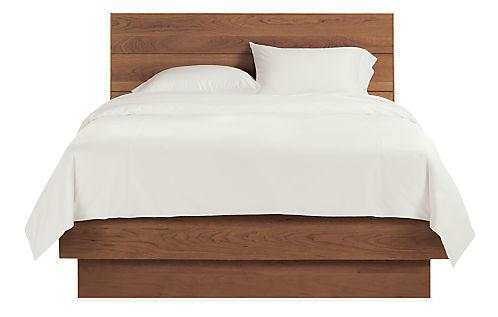bed: (49, 9, 469, 317)
